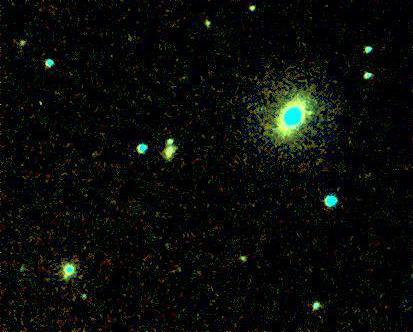star: (294, 99, 324, 129)
